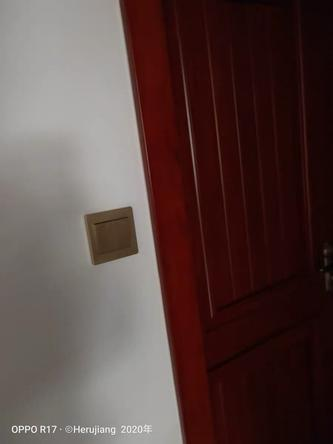switch: (91, 216, 136, 253)
